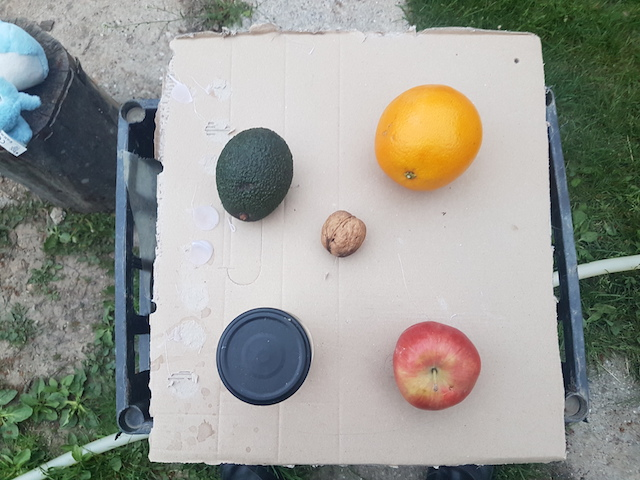apple: (390, 319, 483, 414)
avocado: (213, 124, 296, 223)
nut: (317, 209, 365, 259)
orange: (375, 81, 485, 193)
recipient: (213, 306, 310, 409)
